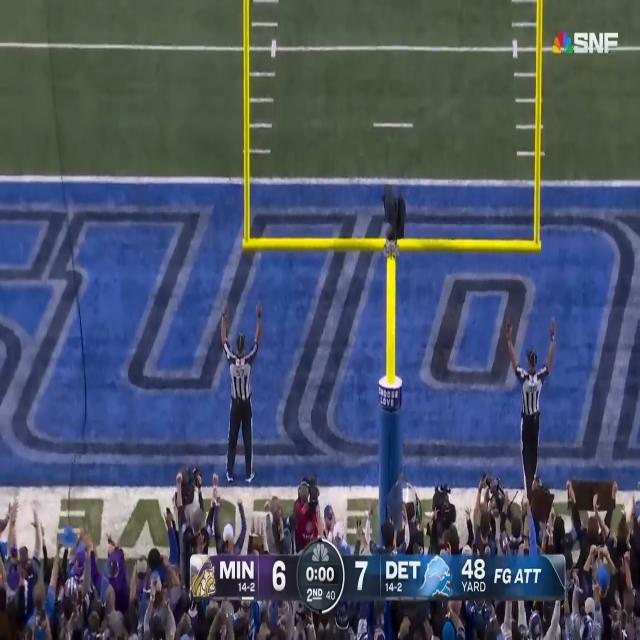Referee: (216, 297, 270, 483), (500, 308, 556, 485)
